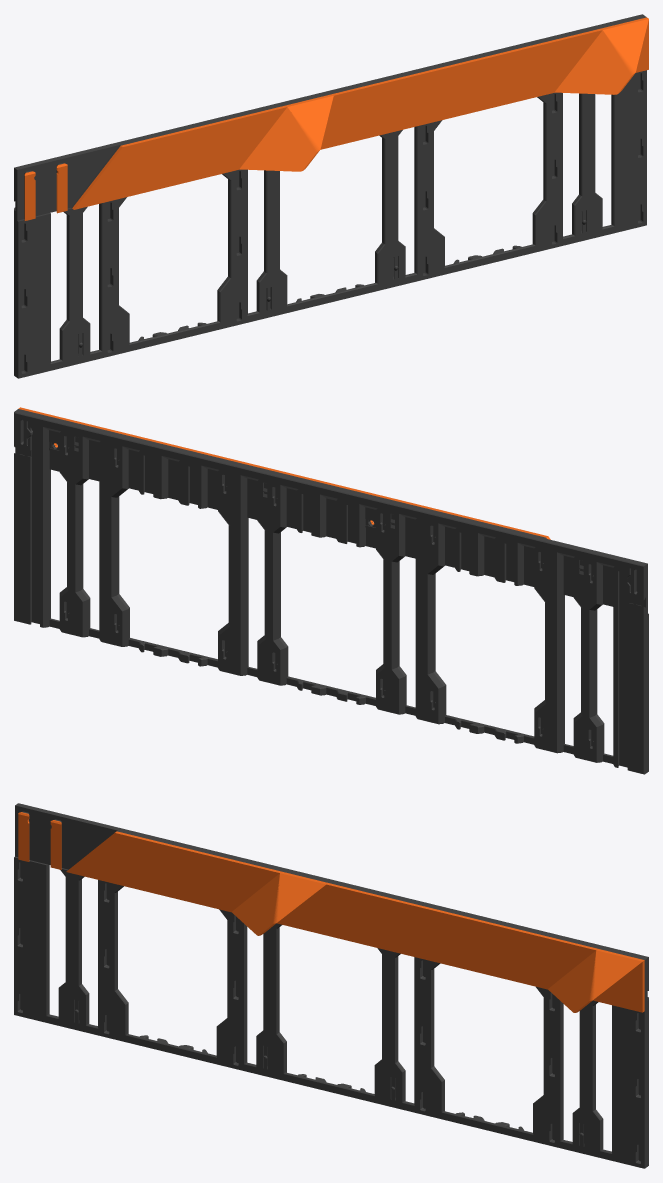
The model's file is Faceplate_EdgeLabel_4W-2H.lib.glb.
3 views of the same model, one above another, from view 1: azimuth 30°, elevation 25°; view 2: azimuth 150°, elevation 25°; view 3: azimuth 330°, elevation 25° (orthographic).
Parts seen in each view (by area): view 1: Faceplate_EdgeLabel_4W-2H; view 2: Faceplate_EdgeLabel_4W-2H; view 3: Faceplate_EdgeLabel_4W-2H.
Part boxes in pixels (x1,y1,x2,y2): Faceplate_EdgeLabel_4W-2H: [14, 14, 648, 378]; Faceplate_EdgeLabel_4W-2H: [14, 407, 648, 774]; Faceplate_EdgeLabel_4W-2H: [14, 803, 648, 1168].
Size of the model in its own units: 351 by 111 by 24.08.
